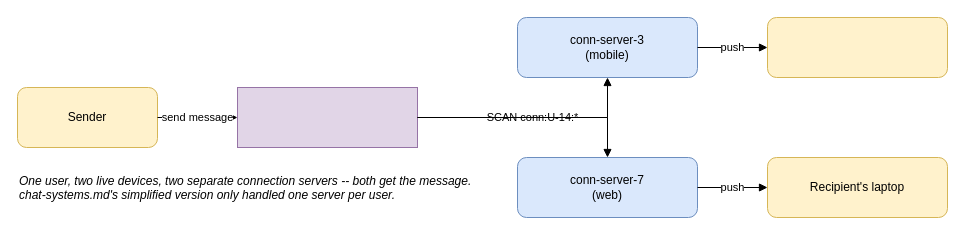
This 965x245 diagram has some shape labels left out. Each missing label, with the centre of its shape:
Recipient's phone: point 857,47
Redis conn:U-14:*: point 327,117
